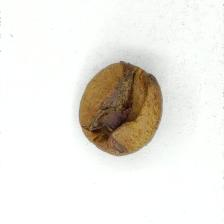NG: (89, 65, 154, 150)
